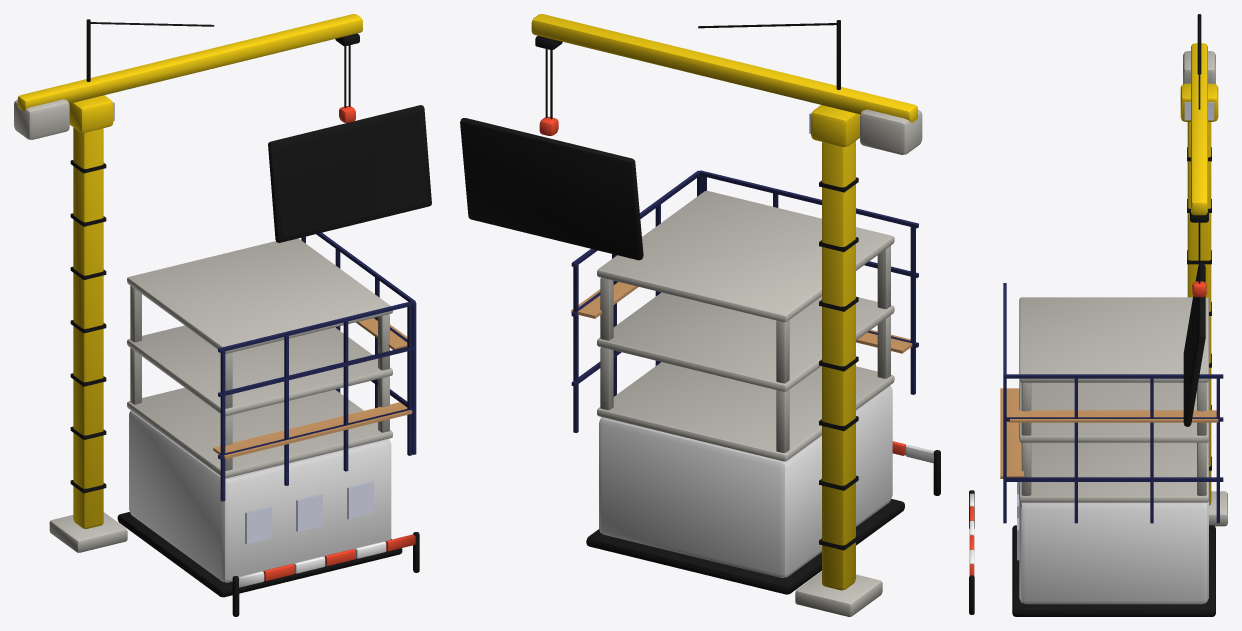
The model's file is ai-site.glb.
3 views of the same model, side by side, from view 1: azimuth 30°, elevation 25°; view 2: azimuth 150°, elevation 25°; view 3: azimuth 270°, elevation 25° (orthographic). The views are drawn at different scales.
Parts seen in each view (by area): view 1: ai-site, screen; view 2: ai-site; view 3: ai-site, screen.
Boxes of the visible parts, <box> form: ai-site: <box>14,14,431,616</box>; screen: <box>276,113,427,236</box>; ai-site: <box>460,14,940,616</box>; ai-site: <box>969,14,1227,616</box>; screen: <box>1184,270,1197,417</box>.
Size of the model in its own units: 9.53 by 11.65 by 5.46.
